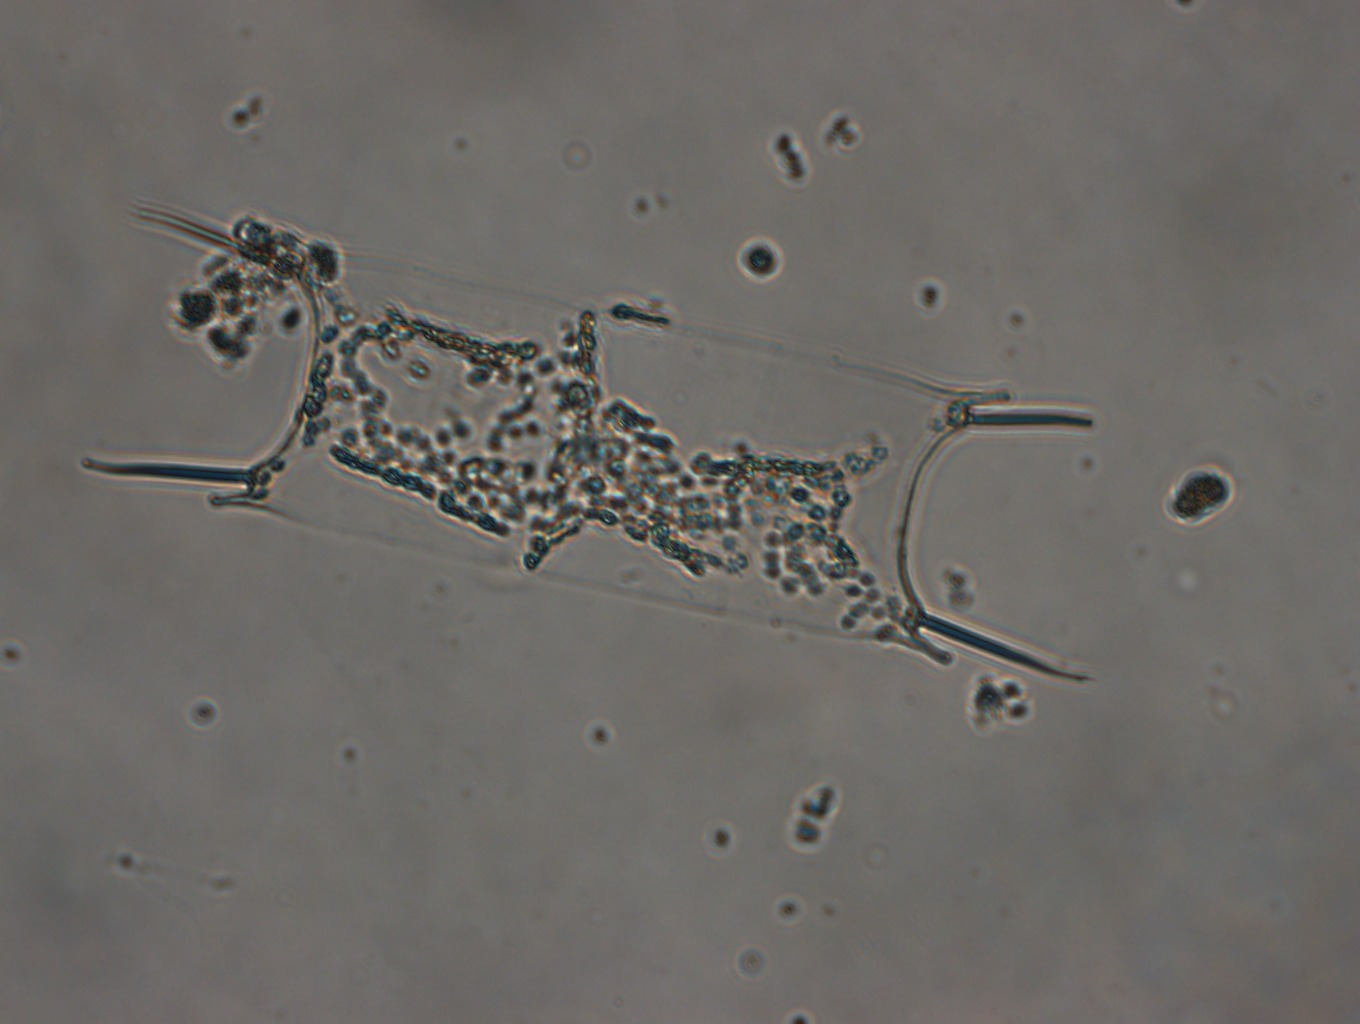biddulphia: (77, 210, 1085, 684)
